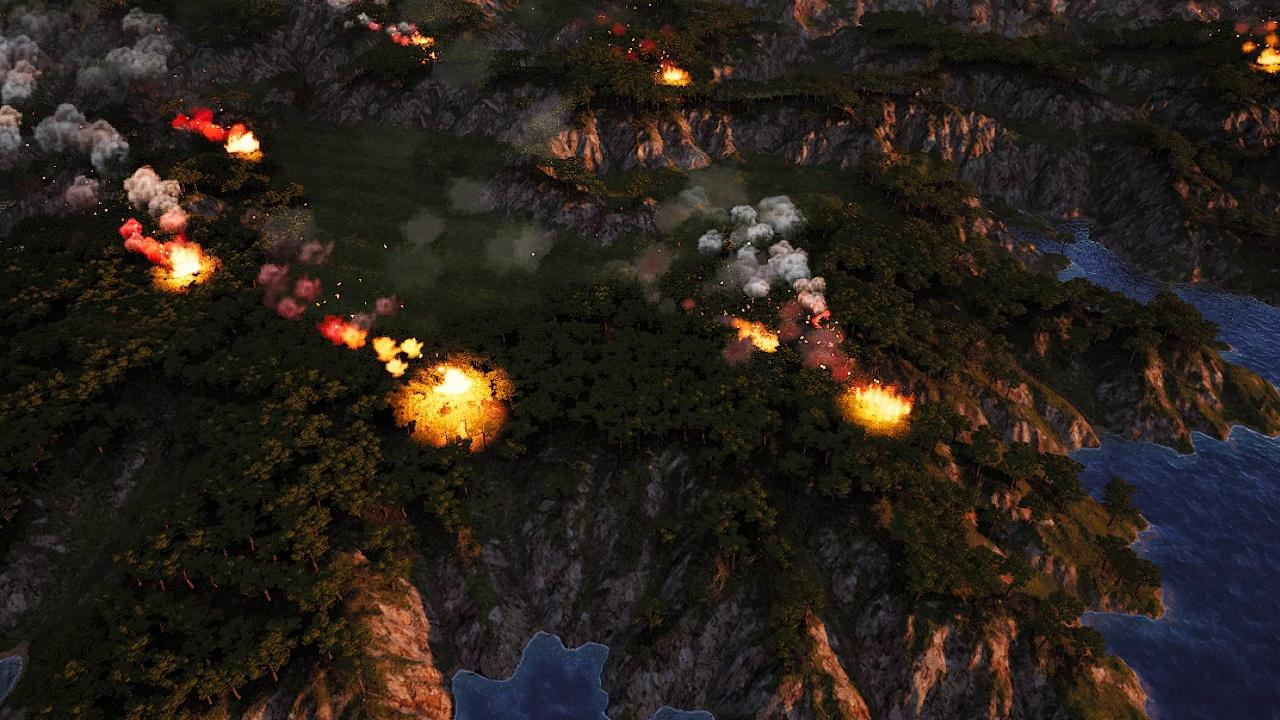fire: (323, 312, 497, 444), (124, 222, 213, 287), (172, 110, 264, 158), (848, 385, 910, 428), (162, 240, 213, 287), (729, 316, 784, 354), (388, 24, 436, 64), (1244, 22, 1280, 71), (652, 57, 692, 88), (662, 69, 691, 85)
smoke: (0, 3, 191, 246), (259, 234, 420, 371), (669, 170, 815, 299)
